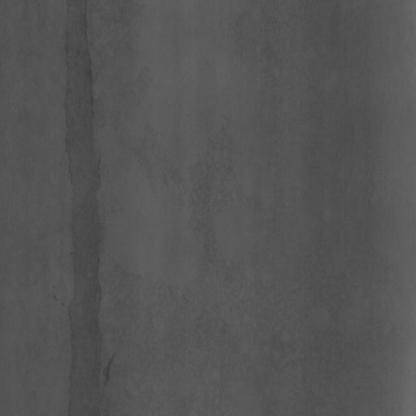water_spot: (58, 8, 119, 416)
